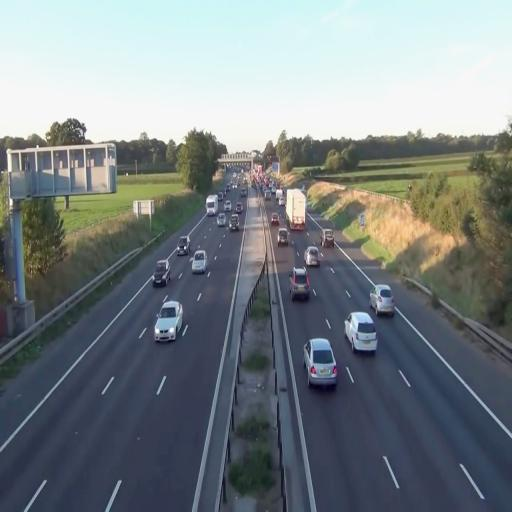vehicle: (303, 338, 338, 390), (344, 311, 378, 353), (154, 298, 184, 343), (286, 188, 306, 232), (286, 189, 306, 231), (290, 267, 313, 302), (371, 286, 394, 318), (190, 248, 209, 275), (152, 260, 170, 286), (304, 246, 322, 268), (276, 224, 290, 245), (228, 214, 241, 232), (177, 236, 189, 254), (180, 235, 190, 252)
